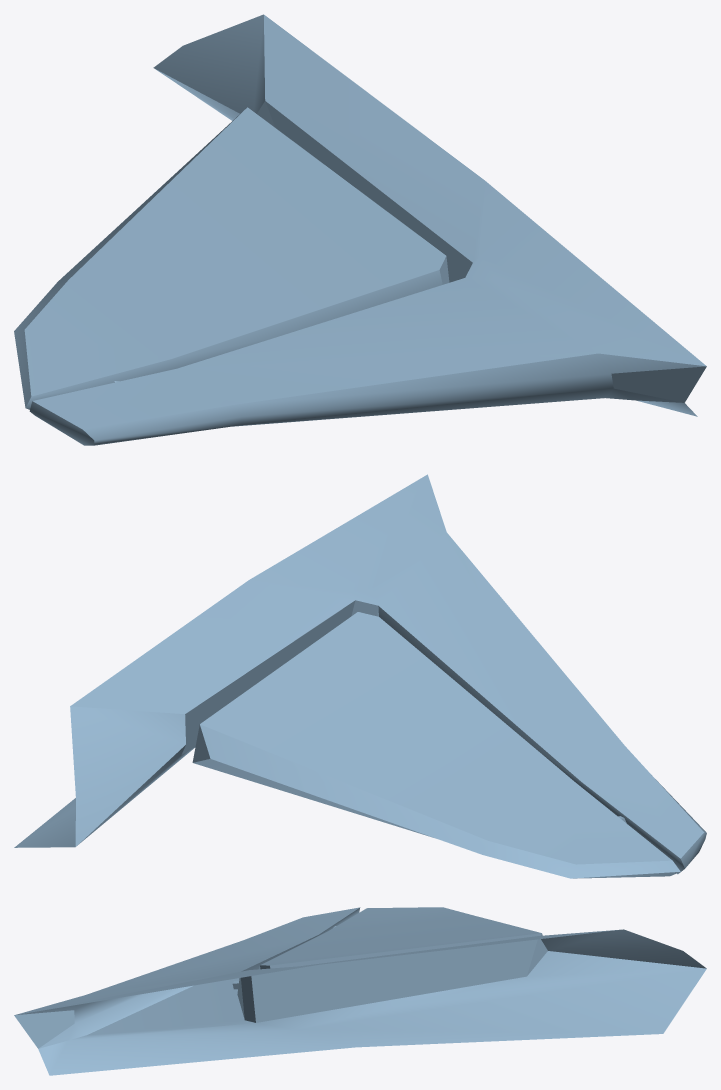
File: nose wing R.FBX
3 views of the same model, one above another, from view 1: azimuth 30°, elevation 25°; view 2: azimuth 150°, elevation 25°; view 3: azimuth 270°, elevation 25° (orthographic). The views are drawn at different scales.
Parts seen in each view (by area): view 1: Group20; view 2: Group20; view 3: Group20.
Boxes of the visible parts, left/top/right/bottom form: Group20: left=14, top=14, right=706, bottom=445; Group20: left=14, top=474, right=706, bottom=878; Group20: left=14, top=907, right=706, bottom=1075.
Bounding box in the file's own units: 0.0581 × 0.0939 × 0.0224.
